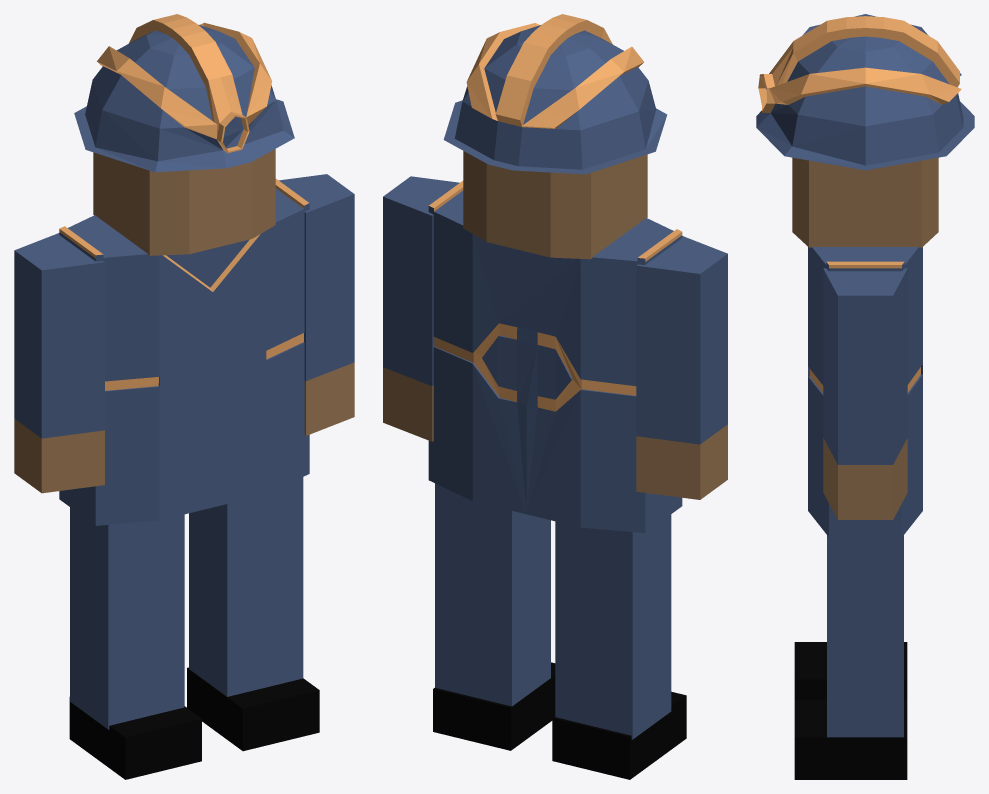
File: black guy 1.fbx
3 renders of one model, left to right at view 1: azimuth 30°, elevation 25°; view 2: azimuth 150°, elevation 25°; view 3: azimuth 270°, elevation 25°, orthographic.
Visible parts, largest first — view 1: polySurface136; view 2: polySurface136; view 3: polySurface136.
Boxes of the visible parts, bbox=[...] form: polySurface136: bbox=[14, 14, 354, 779]; polySurface136: bbox=[383, 14, 727, 779]; polySurface136: bbox=[756, 14, 974, 779].
Size of the model in its own units: 88.75 by 191 by 53.3.
